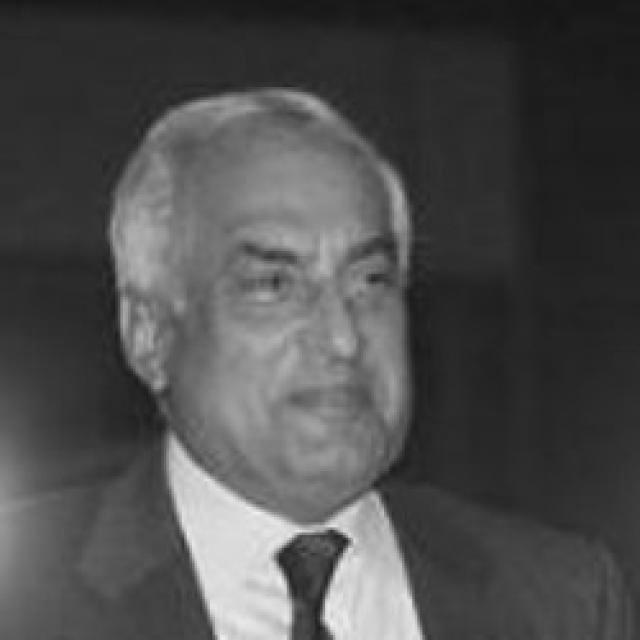real: (171, 126, 415, 506), (225, 256, 396, 297)
